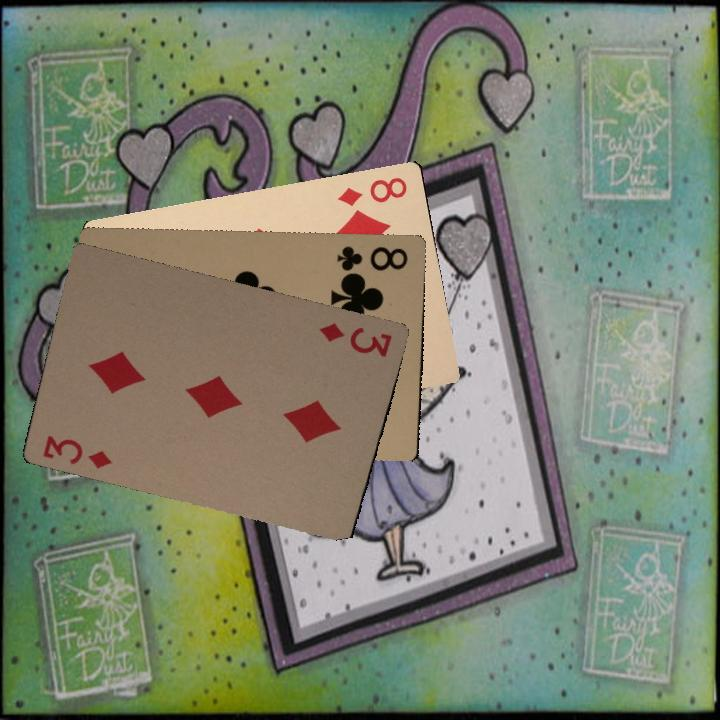3d: (314, 318, 394, 360), (38, 431, 115, 471)
8c: (333, 242, 410, 276)
8d: (334, 173, 410, 209)
